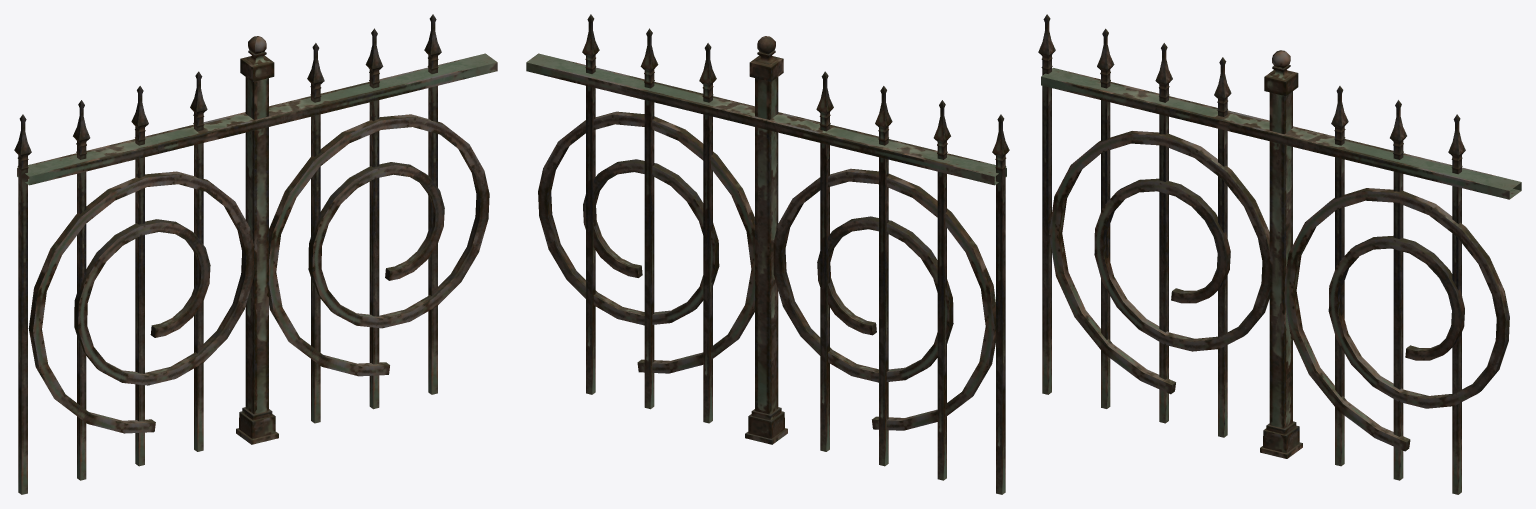
The model's file is Garden_Grid.FBX.
3 renders of one model, left to right at view 1: azimuth 30°, elevation 25°; view 2: azimuth 150°, elevation 25°; view 3: azimuth 330°, elevation 25°, orthographic.
Visible parts, largest first — view 1: Garden_Grid; view 2: Garden_Grid; view 3: Garden_Grid.
Boxes of the visible parts, x1,y1,x2,y2 form: Garden_Grid: (14,14,497,494); Garden_Grid: (526,14,1009,494); Garden_Grid: (1038,14,1521,494).
Bounding box in the file's own units: 202 × 163 × 11.66.
